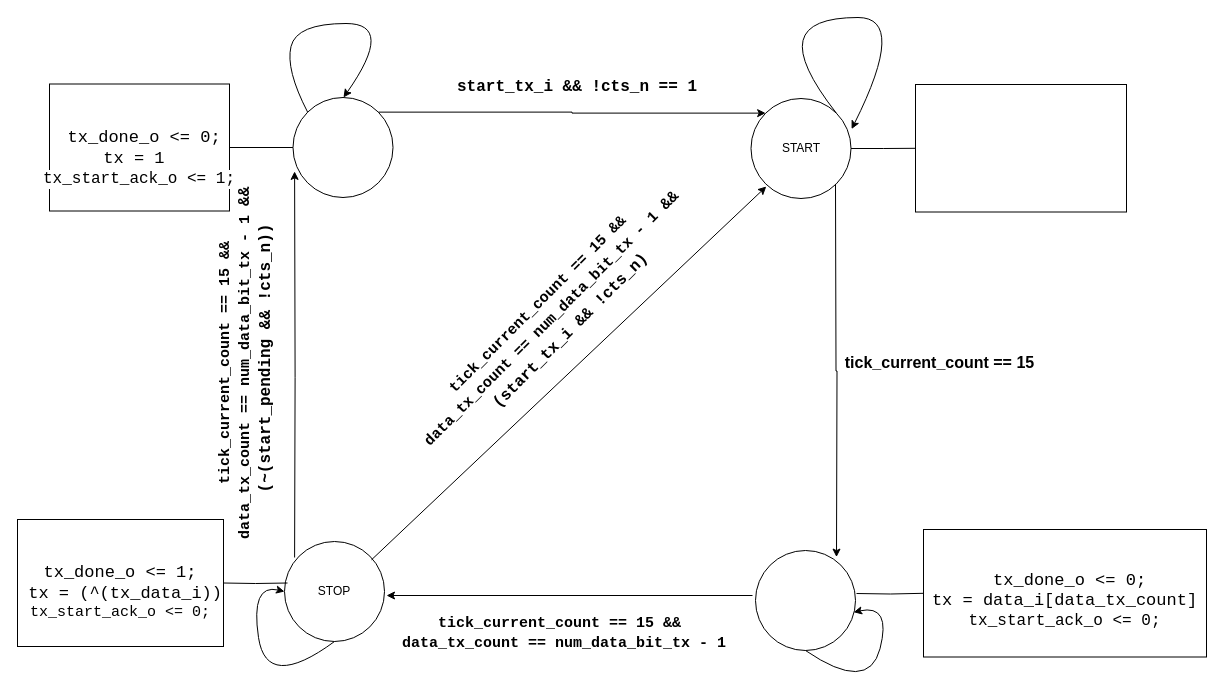
Some shapes in this 1224 by 690 pixel diagram are drawn without their labels. The centre of each missing label's shape, as x and y in pixels:
DATA: the point at 805,600
IDLE: the point at 342,147
tx_done_o <= 0; tx = 0; tx_start_ack_o <= 0;: the point at 1020,148
